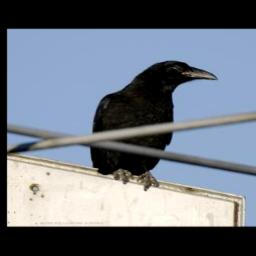Crow: (88, 59, 220, 190)
